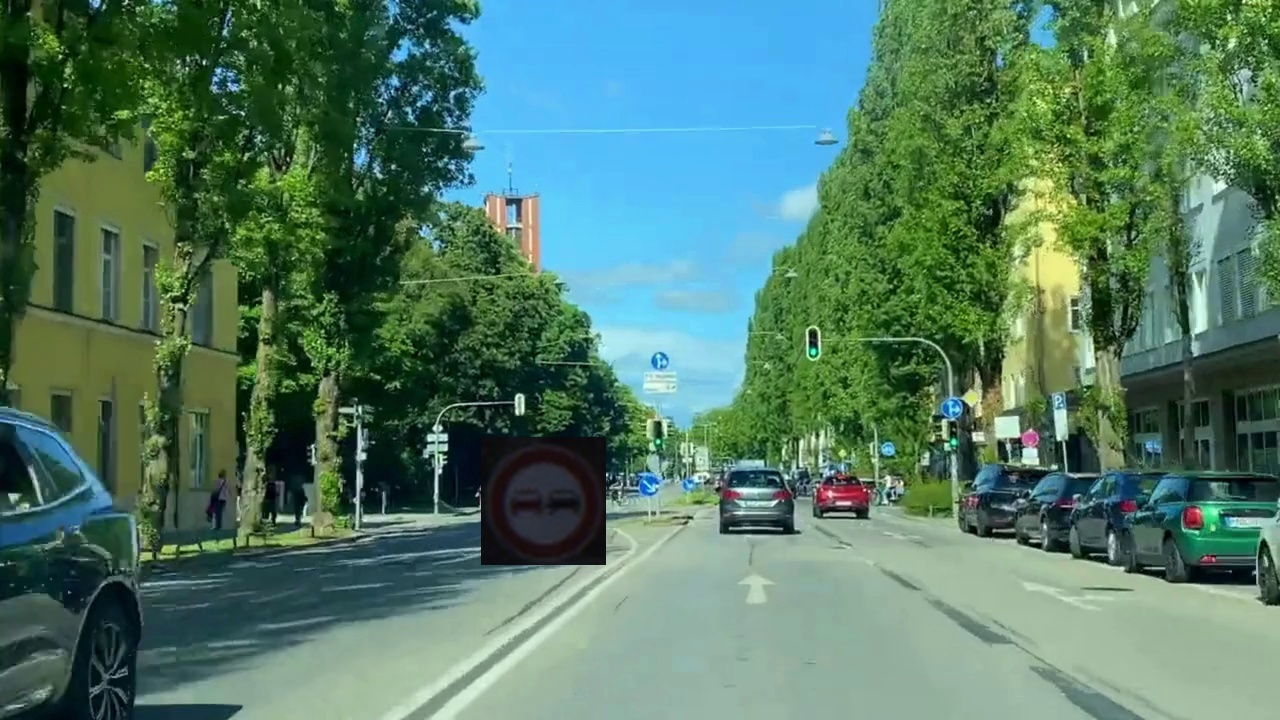No passing: (481, 437, 606, 565)
